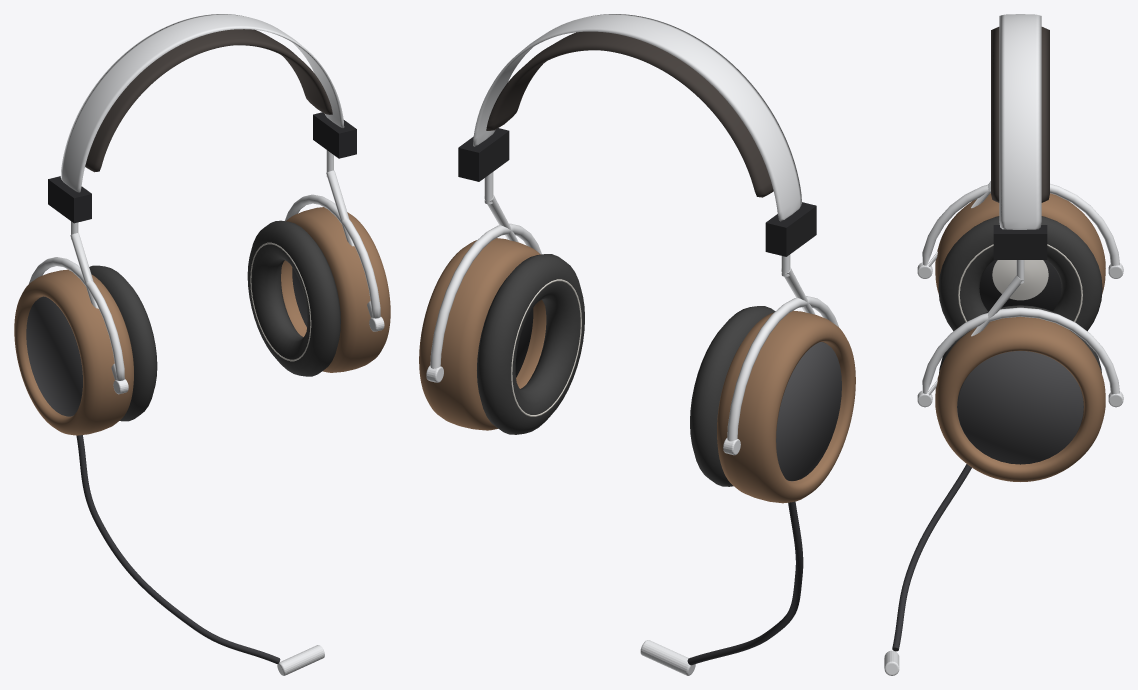
File: one-low.glb
The picture shows the model from 3 angles, left to right: view 1: azimuth 30°, elevation 25°; view 2: azimuth 150°, elevation 25°; view 3: azimuth 270°, elevation 25°; orthographic projection. The views are drawn at different scales.
Visible parts, largest first — view 1: cup_l, pad_r, cup_r, band_steel, band_leather, grille_l, pad_l, cable, yoke_l, yoke_r, block_l, block_r (+1 smaller); view 2: cup_l, pad_r, cup_r, band_steel, band_leather, grille_l, pad_l, yoke_l, yoke_r, block_l, block_r, cable (+2 smaller); view 3: grille_r, cup_r, band_steel, pad_l, cup_l, yoke_r, band_leather, yoke_l, block_r, baffle_l, driver_l, cable (+2 smaller).
Boxes of the visible parts, x1,y1,x2,y2 form: cup_l: (14,269,133,435); pad_r: (247,220,340,376); cup_r: (281,207,390,372); band_steel: (60,14,344,192); band_leather: (85,29,332,172); grille_l: (26,296,82,416); pad_l: (89,265,157,421); cable: (76,435,280,663); yoke_l: (29,233,124,380); yoke_r: (285,170,380,318); block_l: (48,176,91,223); block_r: (313,112,356,158); cup_l: (717,310,855,503); pad_r: (477,254,584,434); cup_r: (419,238,546,430); band_steel: (473,14,801,221); band_leather: (486,31,773,197); grille_l: (776,342,841,481); pad_l: (690,306,775,486); yoke_l: (727,267,838,441); yoke_r: (430,195,541,368); block_l: (765,202,816,256); block_r: (458,128,509,181); cable: (687,501,803,665); grille_r: (957,351,1083,464); cup_r: (935,316,1105,481); band_steel: (999,14,1041,229); pad_l: (938,216,1102,331); cup_l: (935,193,1105,294); yoke_r: (922,275,1119,395); band_leather: (991,27,1049,202); yoke_l: (922,181,1119,266); block_r: (993,225,1047,259); baffle_l: (979,260,1061,311); driver_l: (992,260,1048,300); cable: (892,464,971,651).
Bounding box in the file's own units: 0.2027 × 0.3877 × 0.1339.
